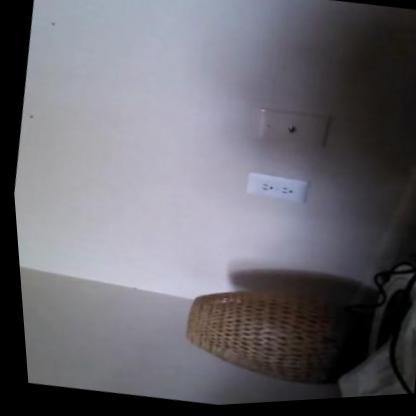OUTLET: (244, 166, 311, 207)
